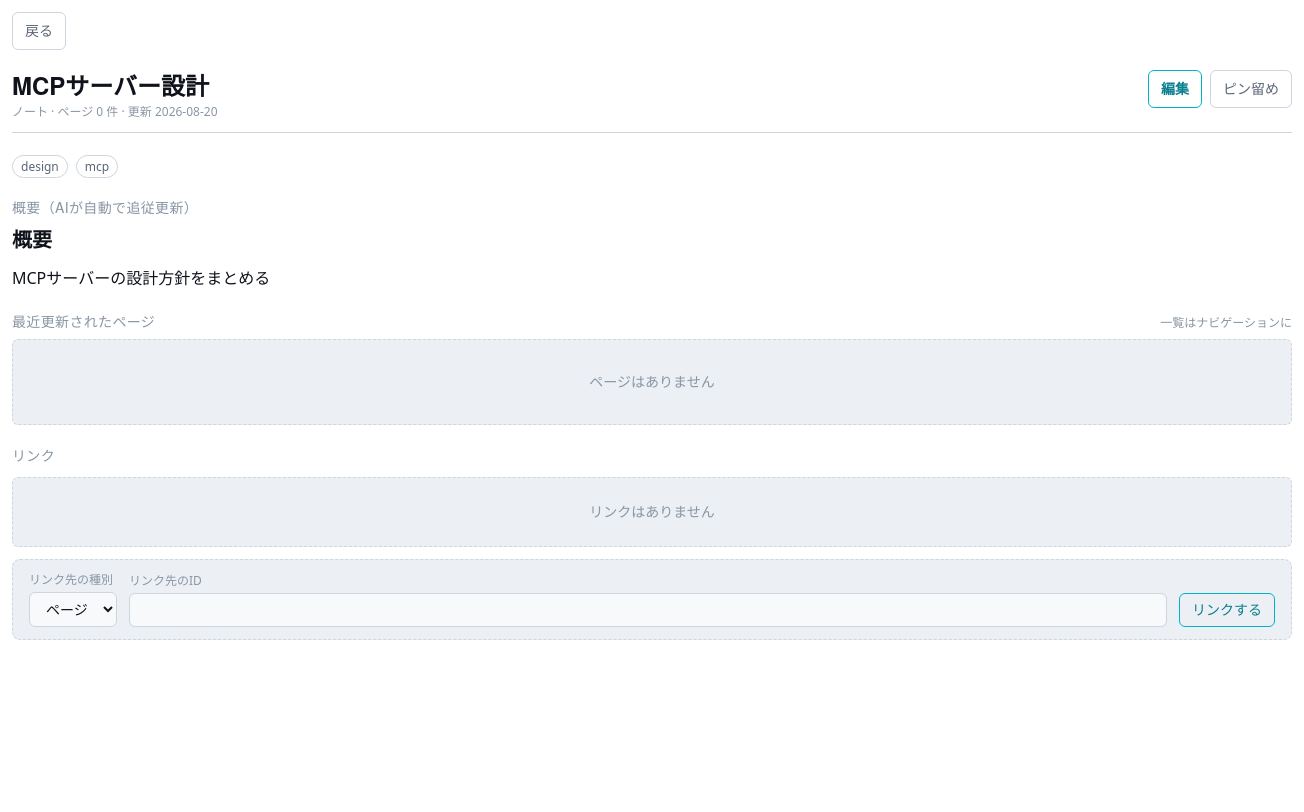
Scenario: NotebookDetail › 保存対象が消えていたら見つからないと伝える
Click the button "編集" at (1175, 89), box [1148,70,1202,108]
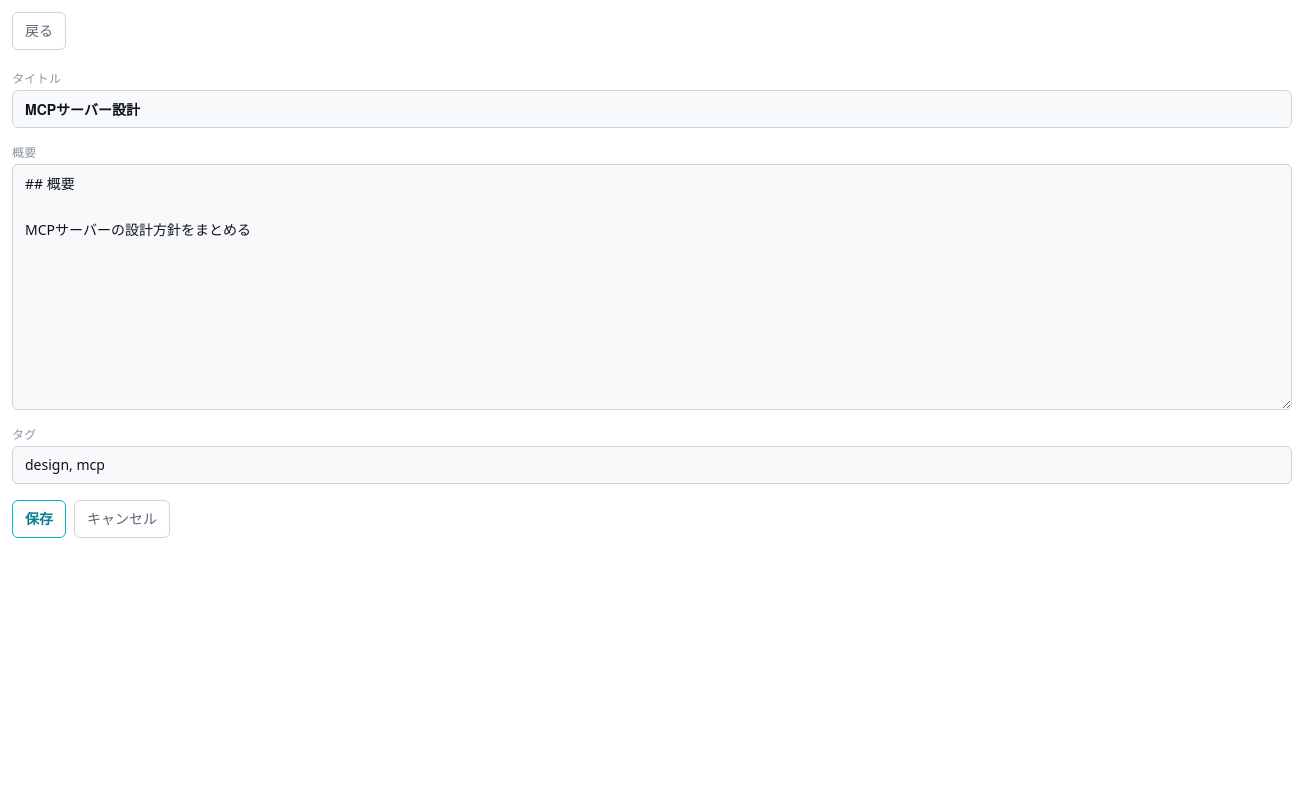
Click the button "保存" at (39, 518), box [12,500,66,538]
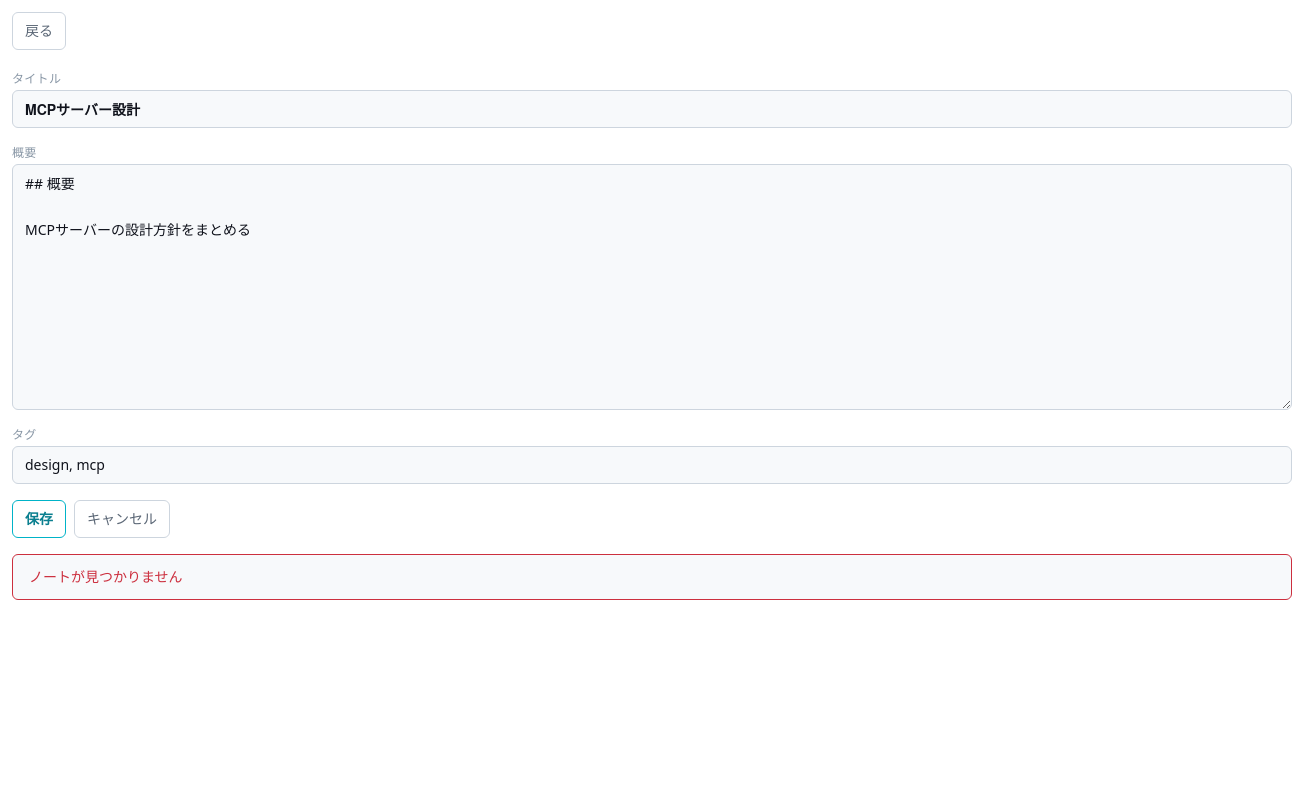
Expected: the message reads "ノートが見つかりません", [29,566,183,586]
